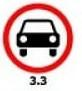road_sign: (2, 3, 74, 75)
